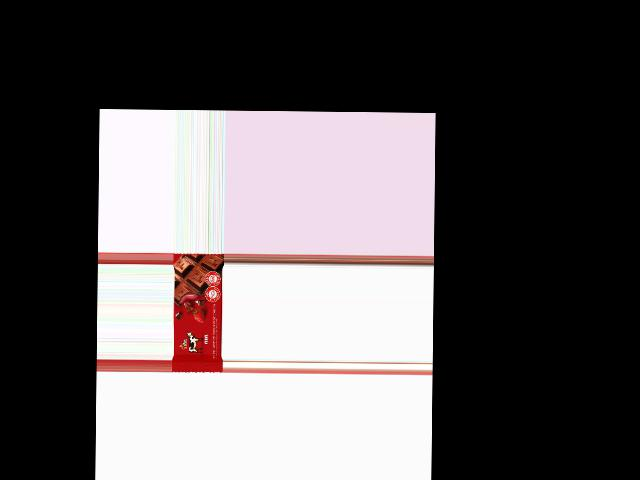chocolate: (172, 254, 224, 373)
